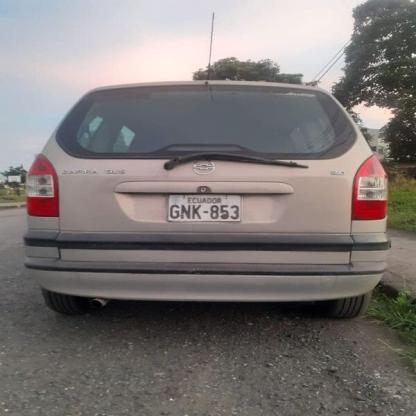Placa: (166, 188, 244, 224)
